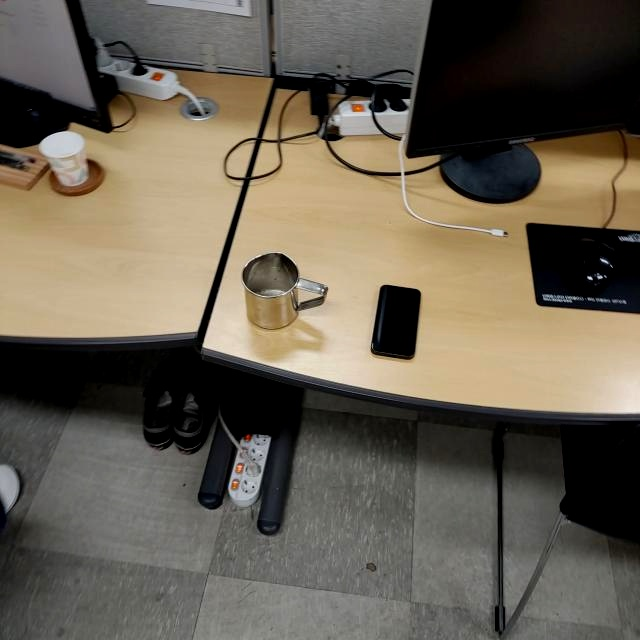cup: (242, 253, 329, 329)
phone: (370, 285, 420, 360)
